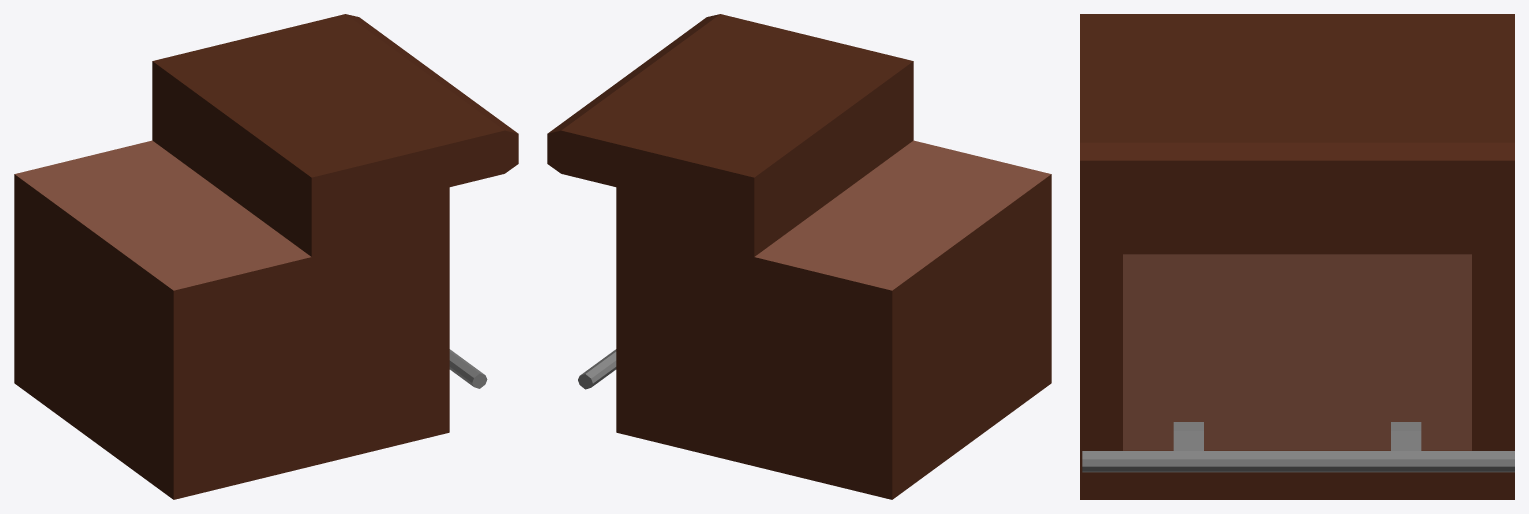
The model's file is Bar Straight.fbx.
3 views of the same model, side by side, from view 1: azimuth 30°, elevation 25°; view 2: azimuth 150°, elevation 25°; view 3: azimuth 270°, elevation 25° (orthographic). The views are drawn at different scales.
Parts seen in each view (by area): view 1: Bar Straight, Bar Straight Pole; view 2: Bar Straight, Bar Straight Pole; view 3: Bar Straight, Bar Straight Pole.
Part boxes in pixels (bbox=[...]): Bar Straight: bbox=[14, 14, 518, 499]; Bar Straight Pole: bbox=[449, 349, 487, 388]; Bar Straight: bbox=[547, 14, 1051, 499]; Bar Straight Pole: bbox=[578, 349, 616, 389]; Bar Straight: bbox=[1080, 14, 1514, 499]; Bar Straight Pole: bbox=[1082, 422, 1514, 472].
Bounding box in the file's own units: 2500 × 2000 × 2000.
